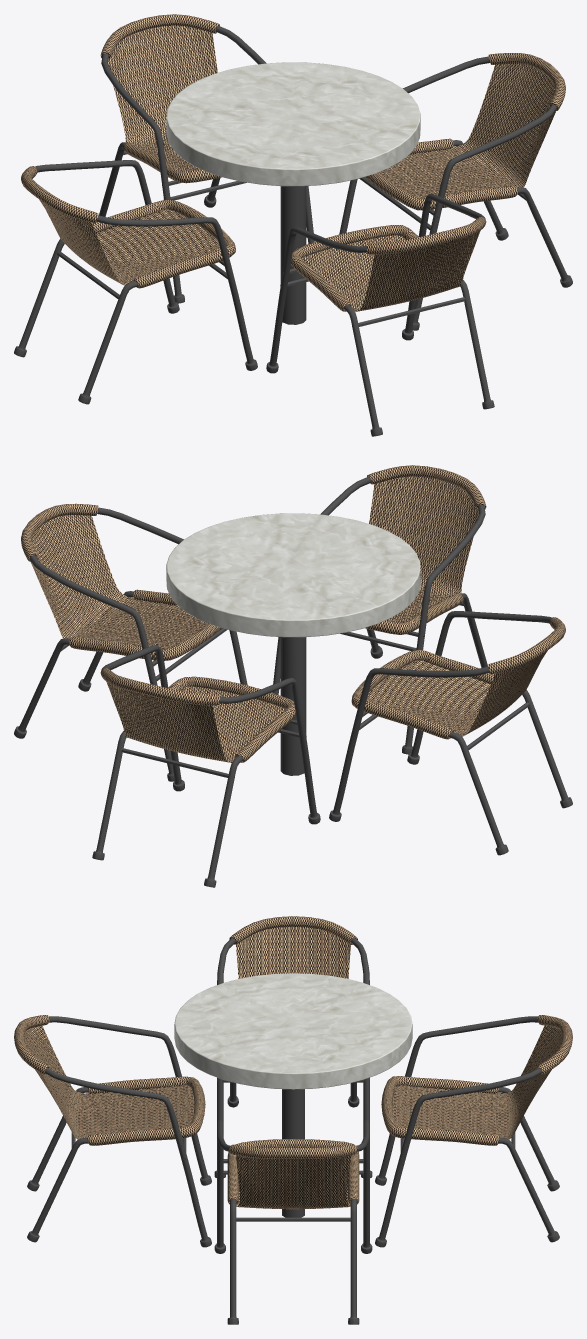
The model's file is 16T3_OutdoorTableChairs_v5.fbx.
The picture shows the model from 3 angles, top to bottom: view 1: azimuth 30°, elevation 25°; view 2: azimuth 150°, elevation 25°; view 3: azimuth 270°, elevation 25°; orthographic projection. The views are drawn at different scales.
Visible parts, largest first — view 1: Woven (×4), Surface, Frame1 (×4), Frame2 (×4), Leg, Strut3; view 2: Woven (×4), Surface, Frame1 (×4), Frame2 (×4), Leg, Strut3; view 3: Woven (×4), Surface, Frame1 (×4), Frame2 (×3), Leg, Strut3.
Boxes of the visible parts, x1,y1,x2,y2 form: Woven (×4): (21, 14, 565, 311); Surface: (166, 62, 420, 186); Frame1 (×4): (35, 26, 556, 373); Frame2 (×4): (14, 140, 572, 436); Leg: (280, 186, 306, 324); Strut3: (358, 297, 465, 326); Woven (×4): (21, 465, 565, 762); Surface: (166, 513, 420, 637); Frame1 (×4): (30, 477, 551, 824); Frame2 (×4): (14, 591, 572, 887); Leg: (280, 637, 306, 775); Strut3: (121, 748, 228, 777); Woven (×4): (14, 916, 572, 1209); Surface: (174, 973, 412, 1089); Frame1 (×4): (45, 938, 541, 1253); Frame2 (×3): (27, 1087, 559, 1324); Leg: (282, 1089, 304, 1217); Strut3: (235, 1217, 351, 1221).
Size of the model in its own units: 11.6 by 4.41 by 11.6.
3 materials, 2 textured.
